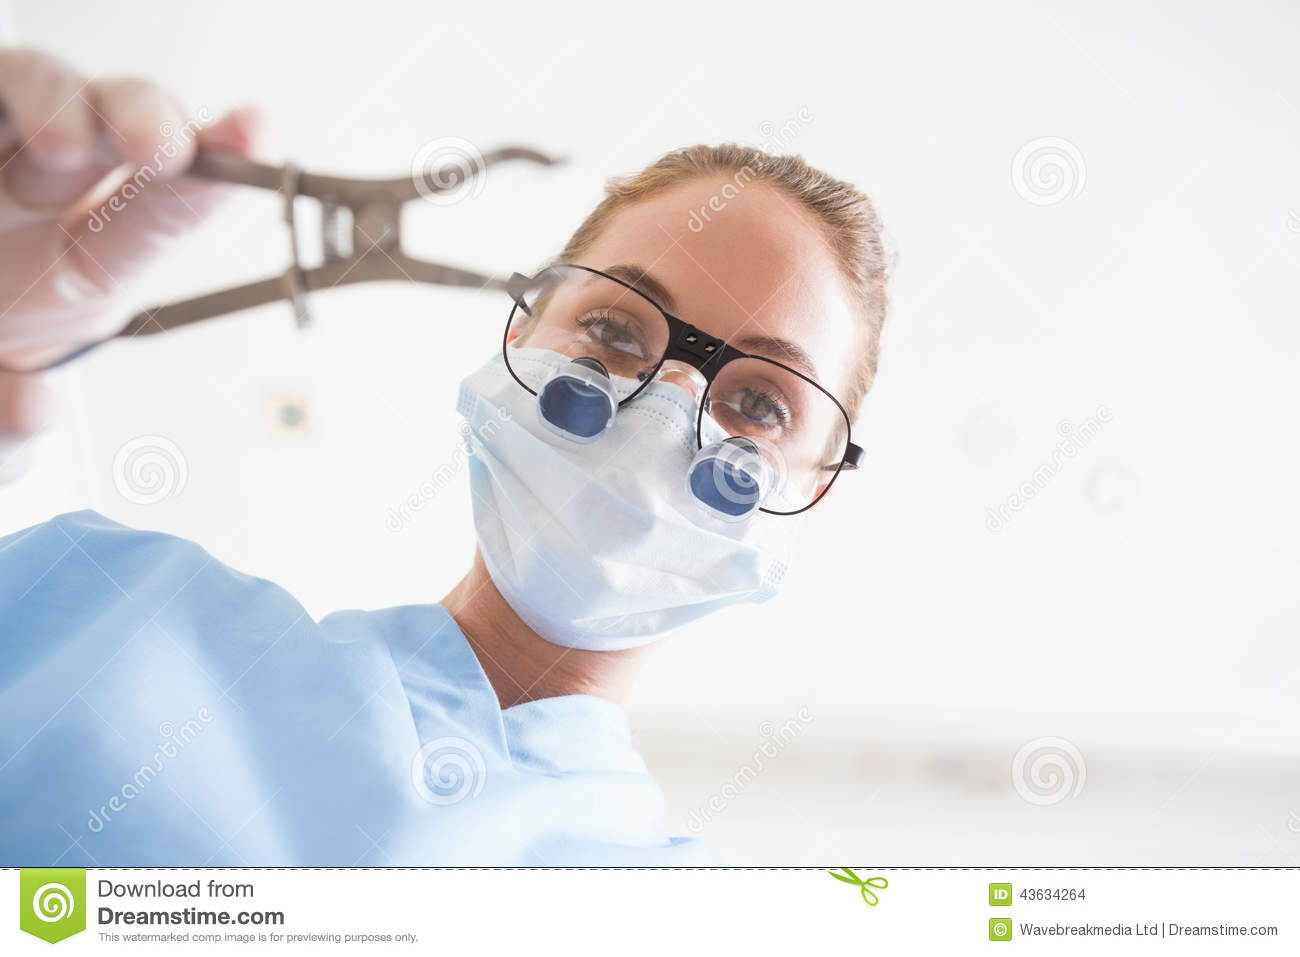mask: (461, 369, 803, 661)
